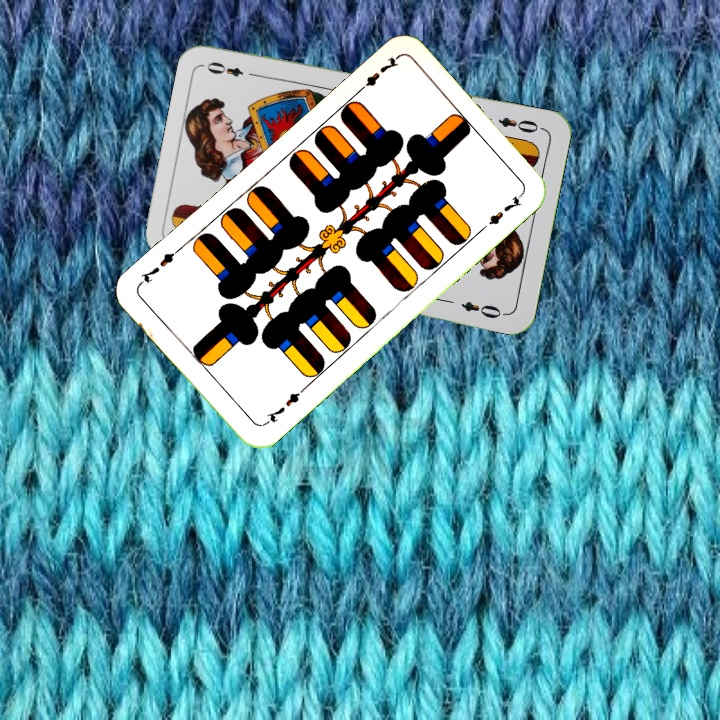E7: (352, 52, 402, 97), (259, 383, 308, 428)
EO: (494, 112, 546, 136)
